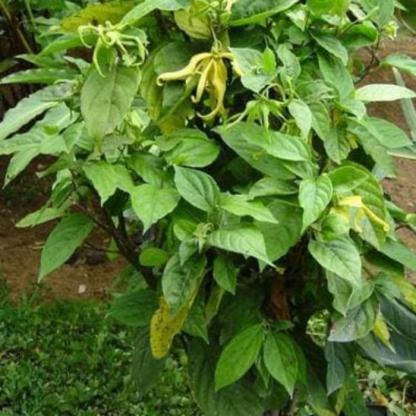Kenanga: (173, 45, 238, 122), (90, 19, 155, 83)
